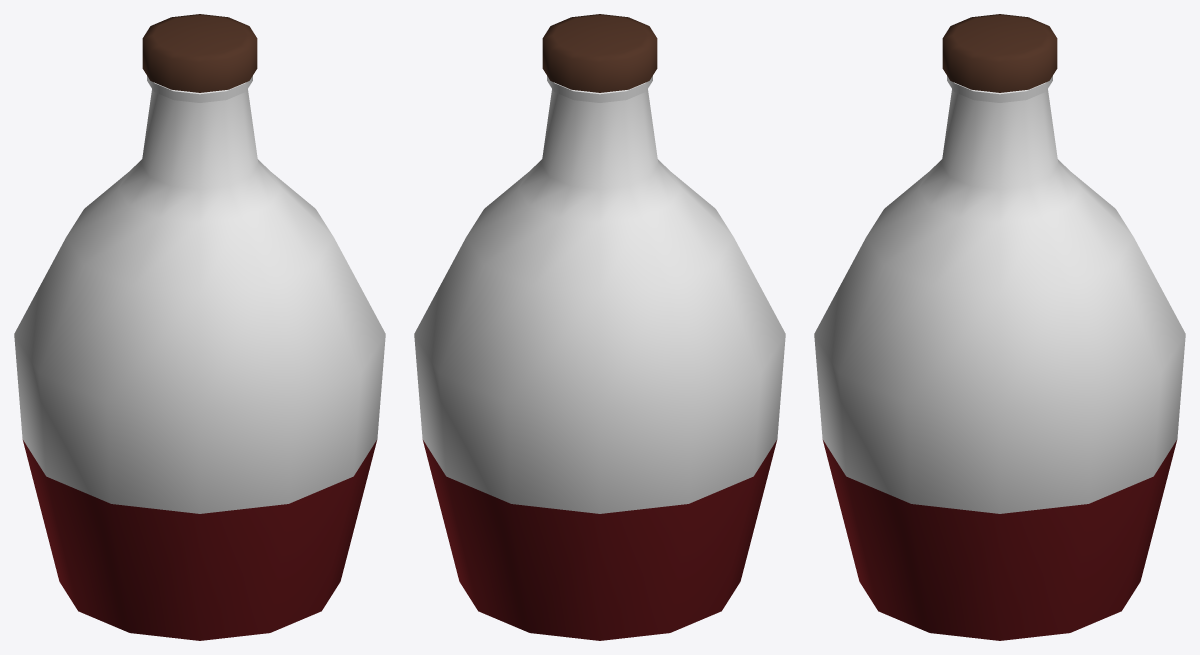
File: LoungeBottle3UV.fbx
3 renders of one model, left to right at view 1: azimuth 30°, elevation 25°; view 2: azimuth 150°, elevation 25°; view 3: azimuth 270°, elevation 25°, orthographic.
Visible parts, largest first — view 1: pCylinder17; view 2: pCylinder17; view 3: pCylinder17.
Part boxes in pixels (x1,y1,x2,y2): pCylinder17: (14, 14, 385, 640); pCylinder17: (414, 14, 785, 640); pCylinder17: (814, 14, 1185, 640).
Size of the model in its own units: 38.92 by 63.43 by 38.92.
